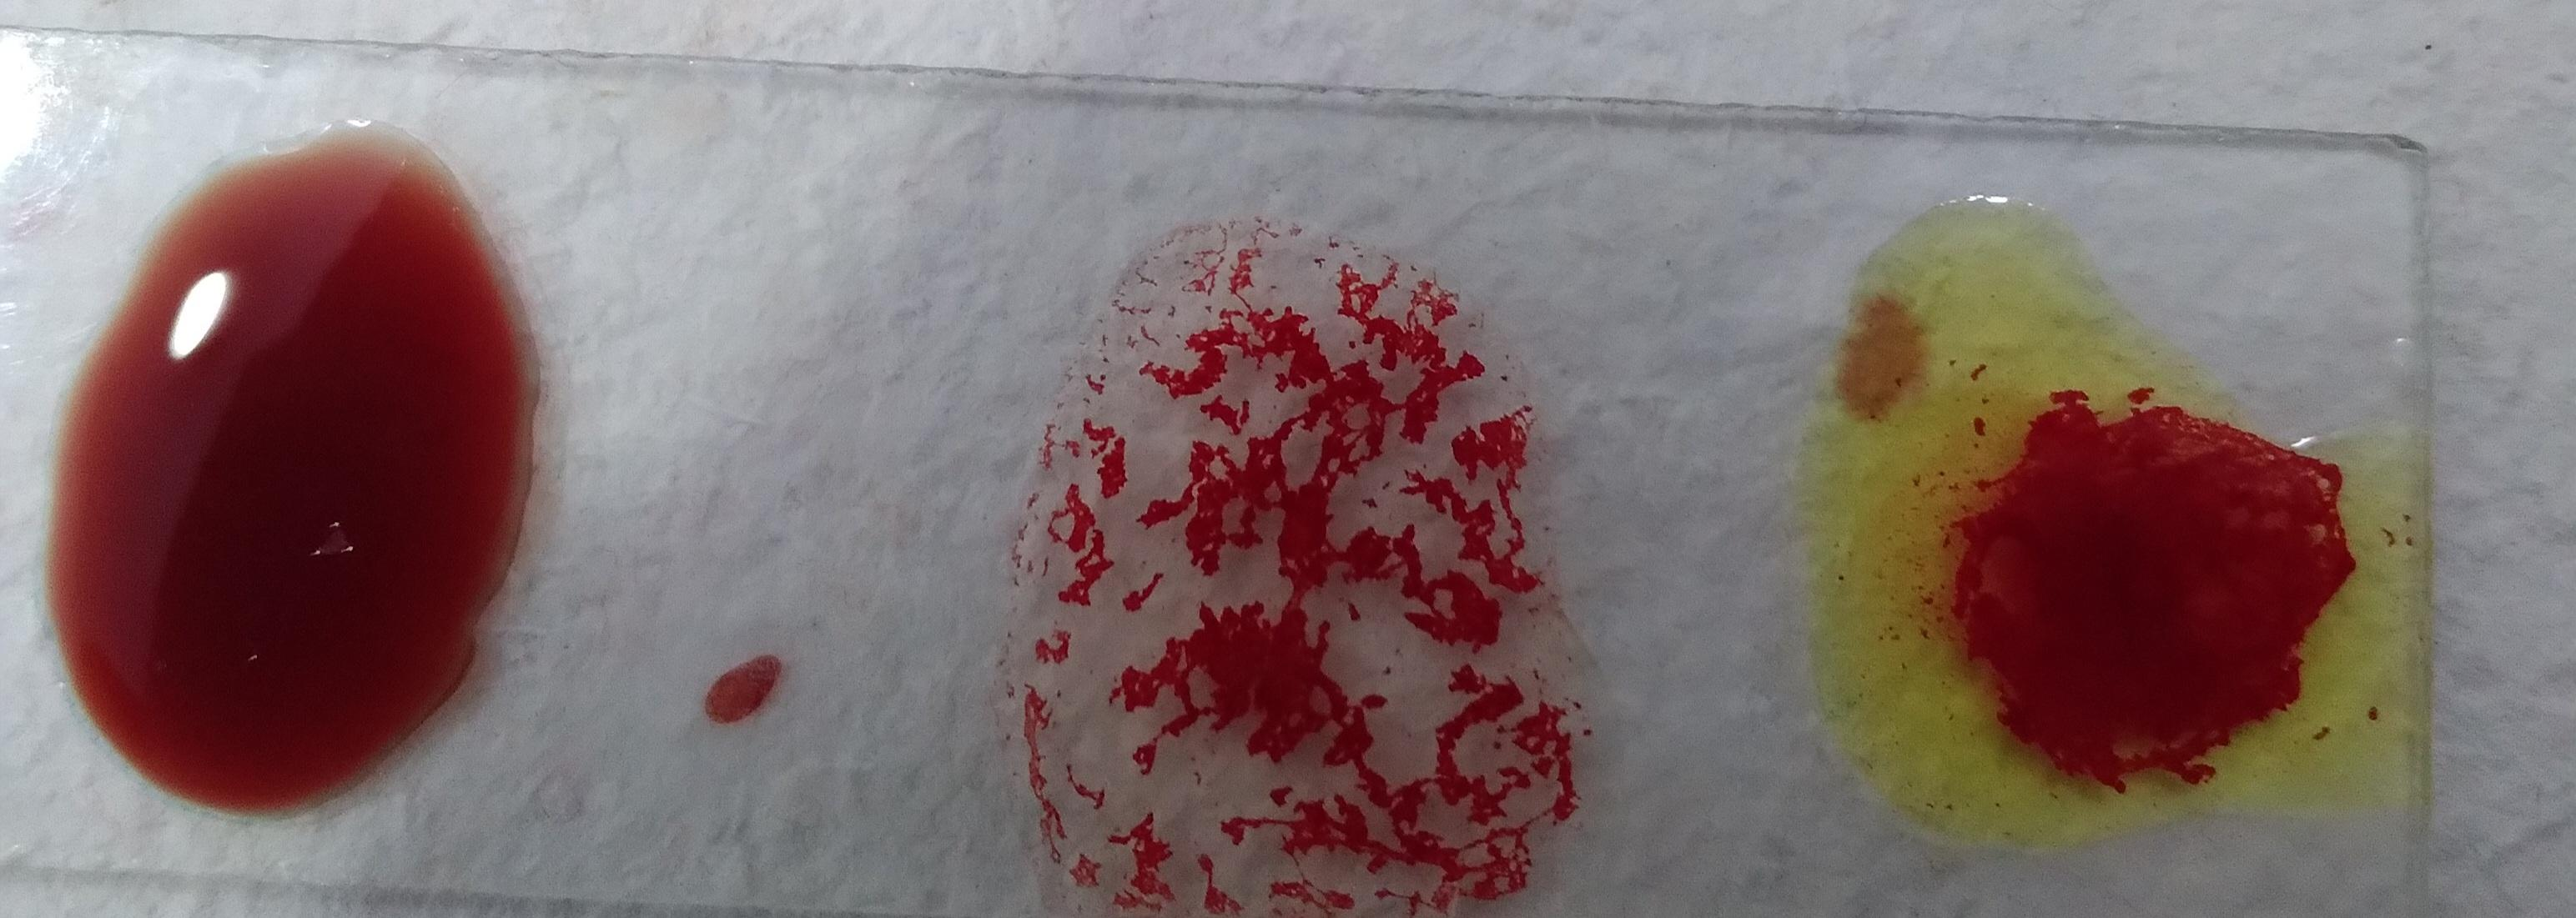B: (169, 53, 803, 731)
D: (1017, 20, 1549, 700)
